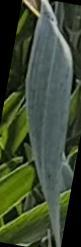Wheat: (32, 36, 68, 149), (41, 159, 62, 229)
